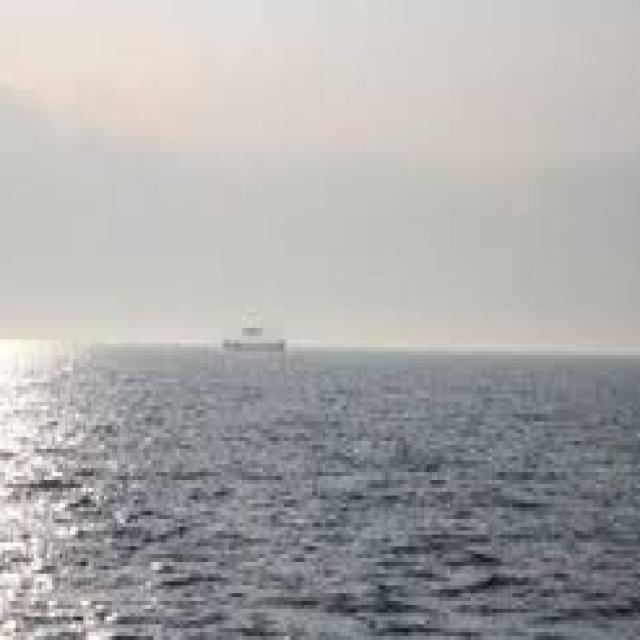fishing boat: (202, 302, 303, 359)
